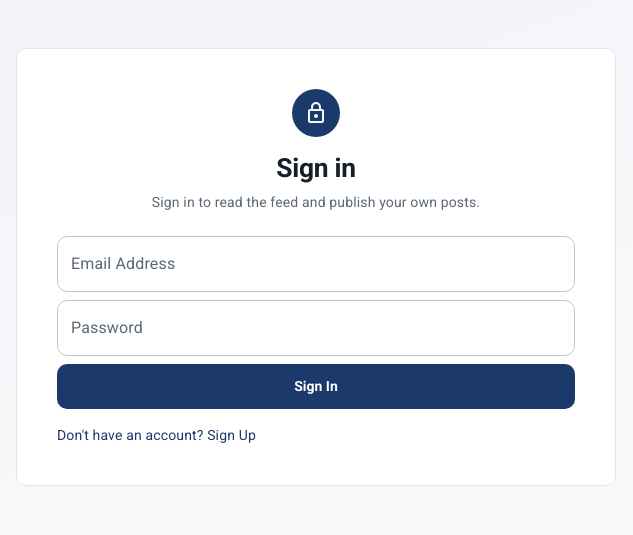
Test: <Signin /> › stays on the page and shows the API message when the credentials are wrong
In the field labelled "Email Address": (316, 264) left=57, top=236, right=575, bottom=292, type "ada@example.com"
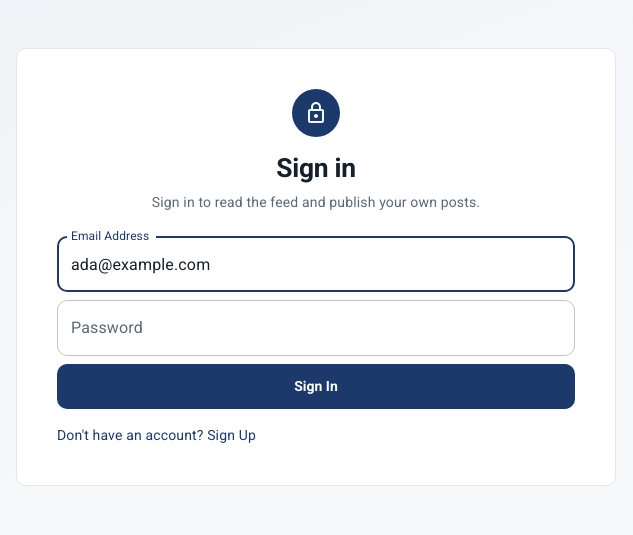
In the password field labelled "Password": (316, 328) left=57, top=300, right=575, bottom=356, type "analytical1843"
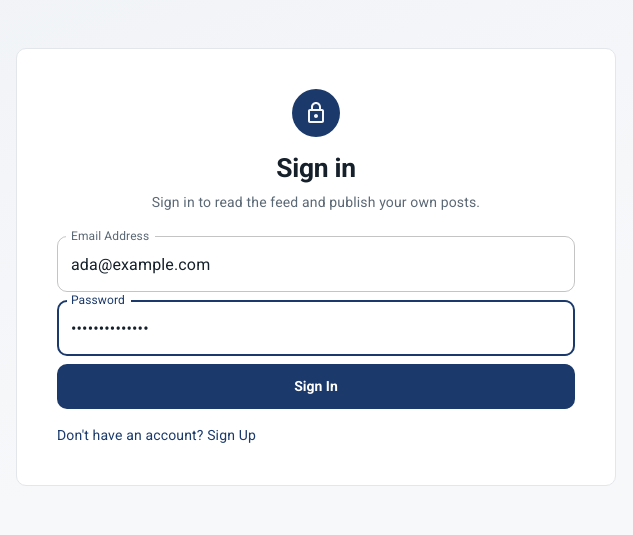
Click the button "Sign In": click(316, 386) left=57, top=364, right=575, bottom=409
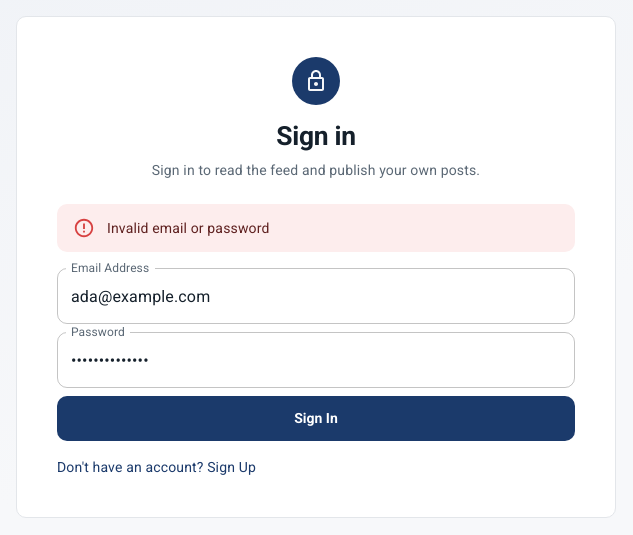
Result: the message reads "Invalid email or password" at left=107, top=220, right=270, bottom=236
